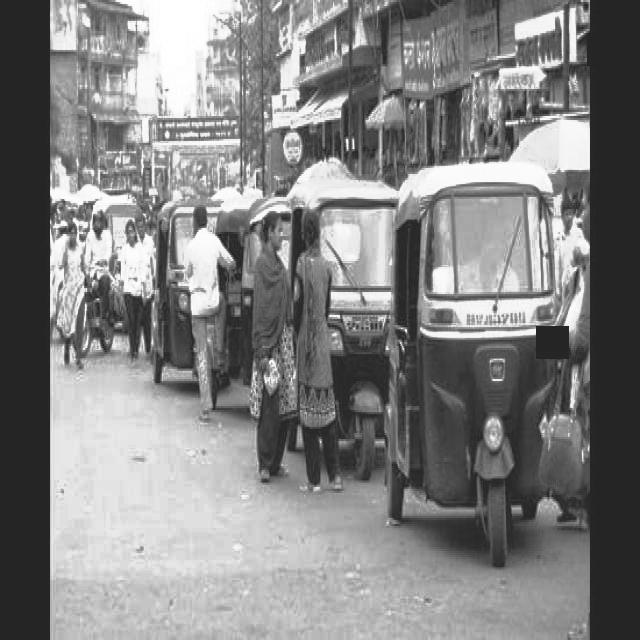Auto-Rickshaw: (388, 168, 567, 596), (290, 190, 403, 488), (217, 197, 294, 404), (144, 193, 218, 371)
